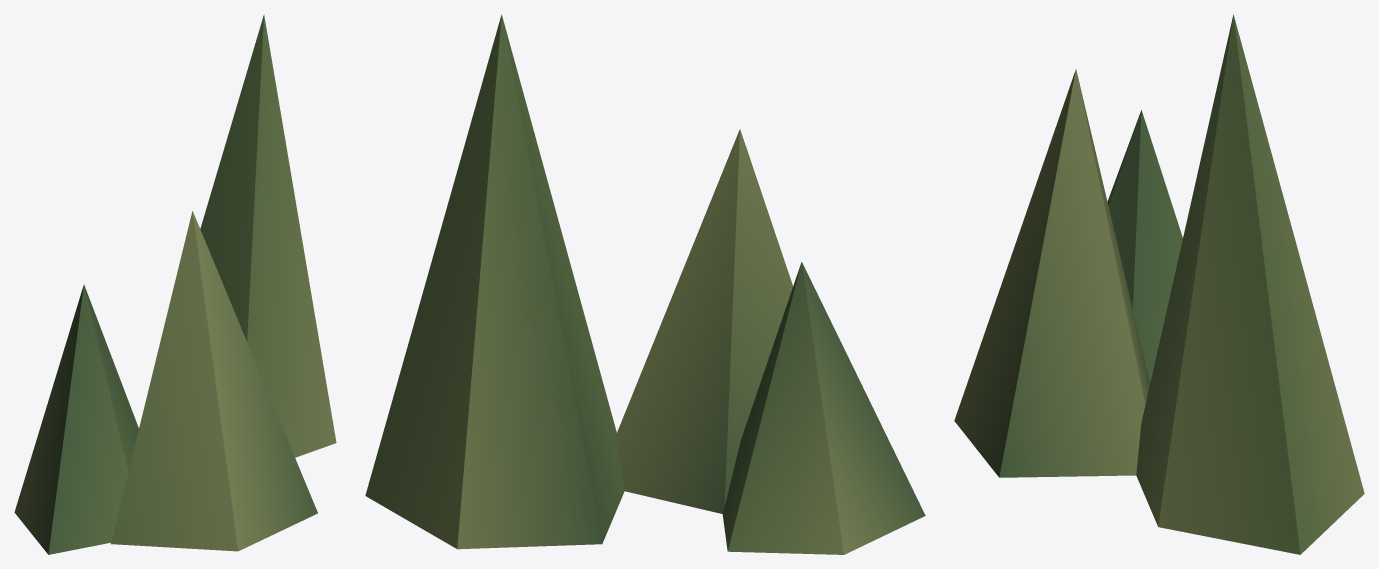
Rendered from ENV_Shrub_B_LOD1.glb.
3 views of the same model, side by side, from view 1: azimuth 30°, elevation 25°; view 2: azimuth 150°, elevation 25°; view 3: azimuth 270°, elevation 25° (orthographic). The views are drawn at different scales.
Visible parts, largest first — view 1: ENV_Shrub_B_LOD1_shrub; view 2: ENV_Shrub_B_LOD1_shrub; view 3: ENV_Shrub_B_LOD1_shrub.
Part boxes in pixels (bbox=[...]): ENV_Shrub_B_LOD1_shrub: bbox=[14, 14, 336, 554]; ENV_Shrub_B_LOD1_shrub: bbox=[365, 14, 925, 554]; ENV_Shrub_B_LOD1_shrub: bbox=[954, 14, 1364, 554].
Bounding box in the file's own units: 0.9548 × 1 × 0.7594.
